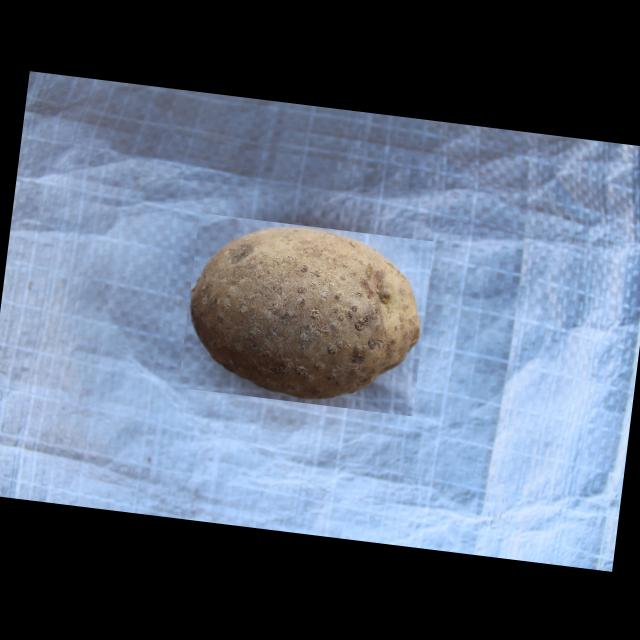Diseased-fungal potato: (176, 212, 432, 414)
